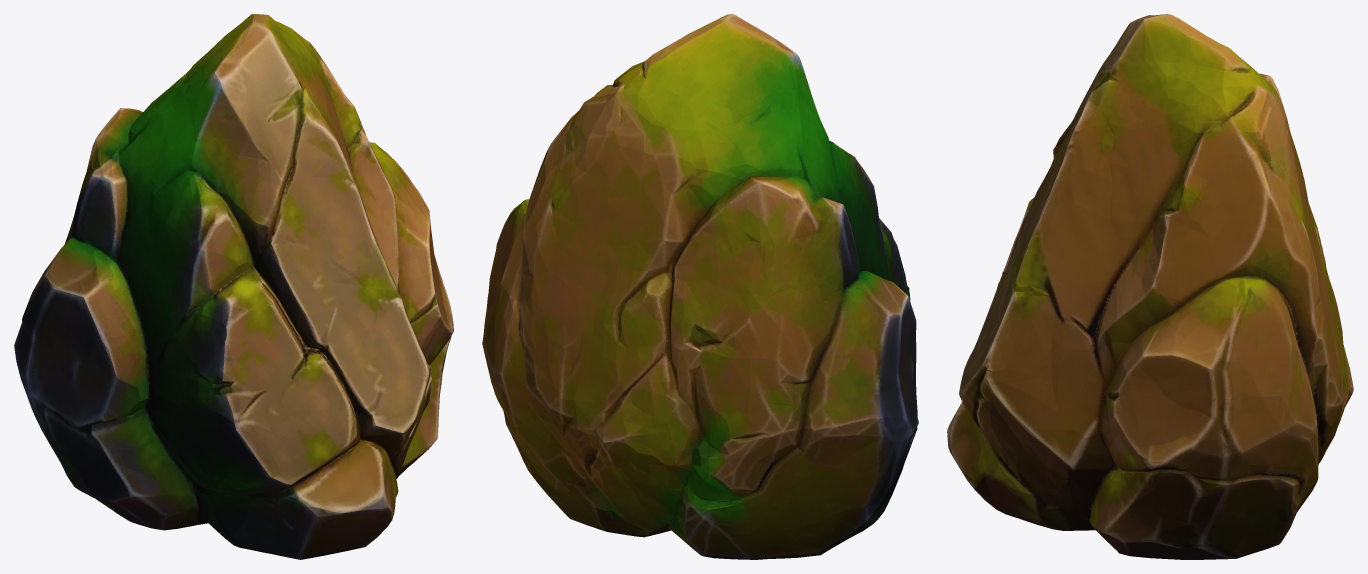
The model's file is mossy_rock_ore.glb.
3 renders of one model, left to right at view 1: azimuth 30°, elevation 25°; view 2: azimuth 150°, elevation 25°; view 3: azimuth 270°, elevation 25°, orthographic. The views are drawn at different scales.
Bounding box in the file's own units: 1.79 × 1.97 × 1.51.
1 material, 1 textured.
